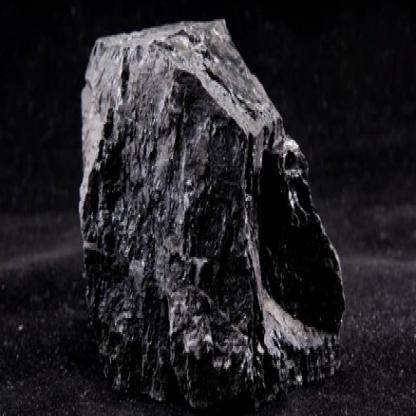Sedimentary_coal: (73, 14, 352, 414)
